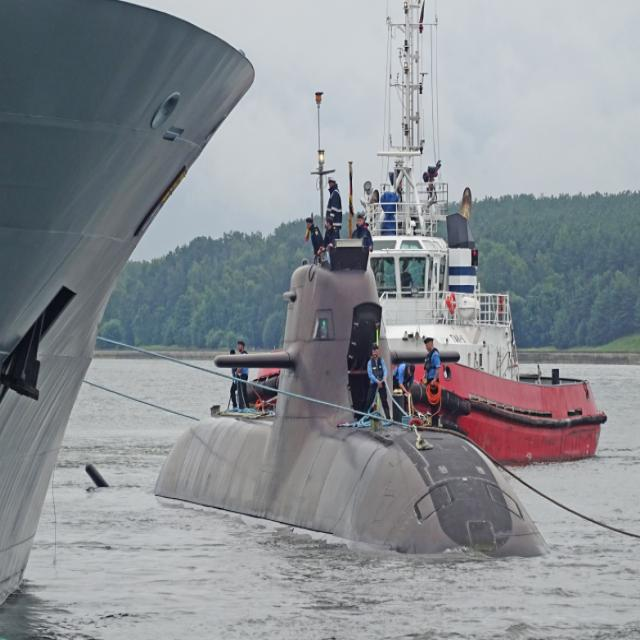submarine: (156, 261, 551, 551)
